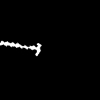half_double_crochet: (0, 41, 40, 55)
